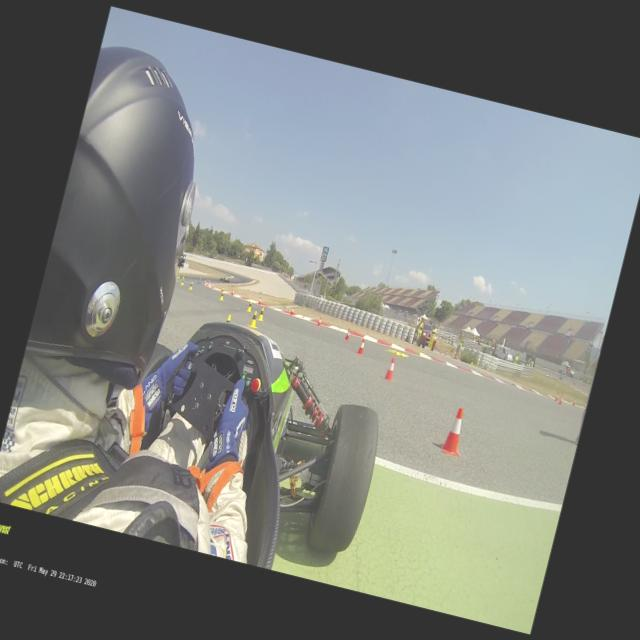orange_cone: (436, 404, 471, 460), (381, 355, 398, 384), (354, 337, 368, 357), (343, 328, 352, 342), (552, 392, 562, 404), (556, 394, 564, 407), (316, 317, 322, 327), (289, 306, 294, 316), (256, 297, 262, 305), (570, 398, 576, 406), (449, 353, 454, 359), (230, 289, 234, 296), (443, 351, 447, 356), (210, 282, 213, 288), (220, 286, 223, 292), (439, 349, 442, 354), (204, 282, 207, 286), (205, 281, 208, 285)
yellow_cone: (248, 310, 260, 328), (258, 306, 266, 321), (245, 300, 252, 312), (218, 290, 224, 300), (468, 358, 474, 365), (188, 282, 193, 290), (180, 278, 184, 286), (226, 314, 230, 322), (178, 274, 180, 278), (182, 276, 184, 280)
